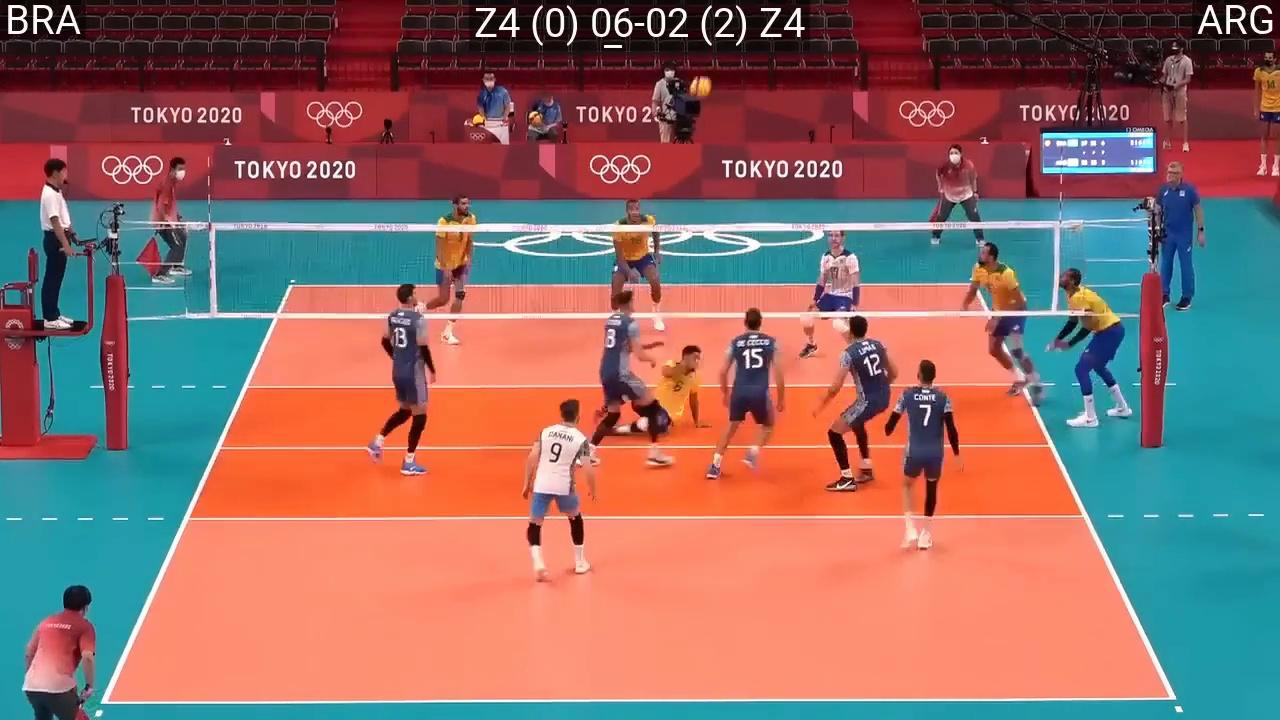ball: (690, 75, 710, 96)
